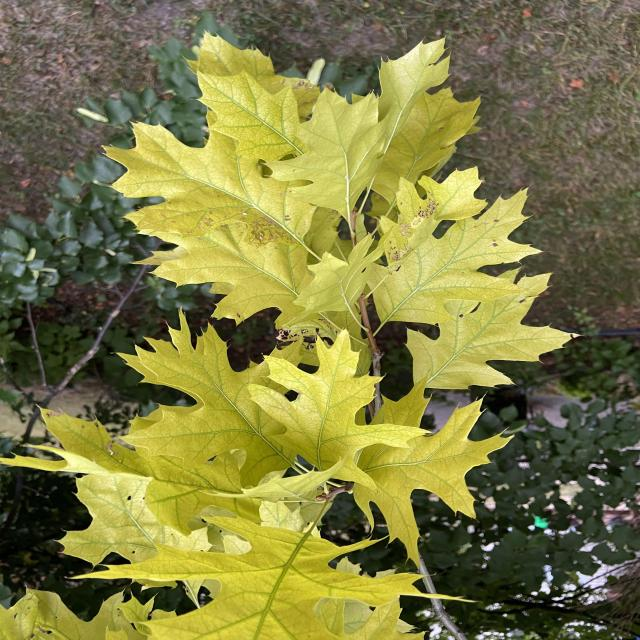Chlorosis: (10, 18, 528, 640)
